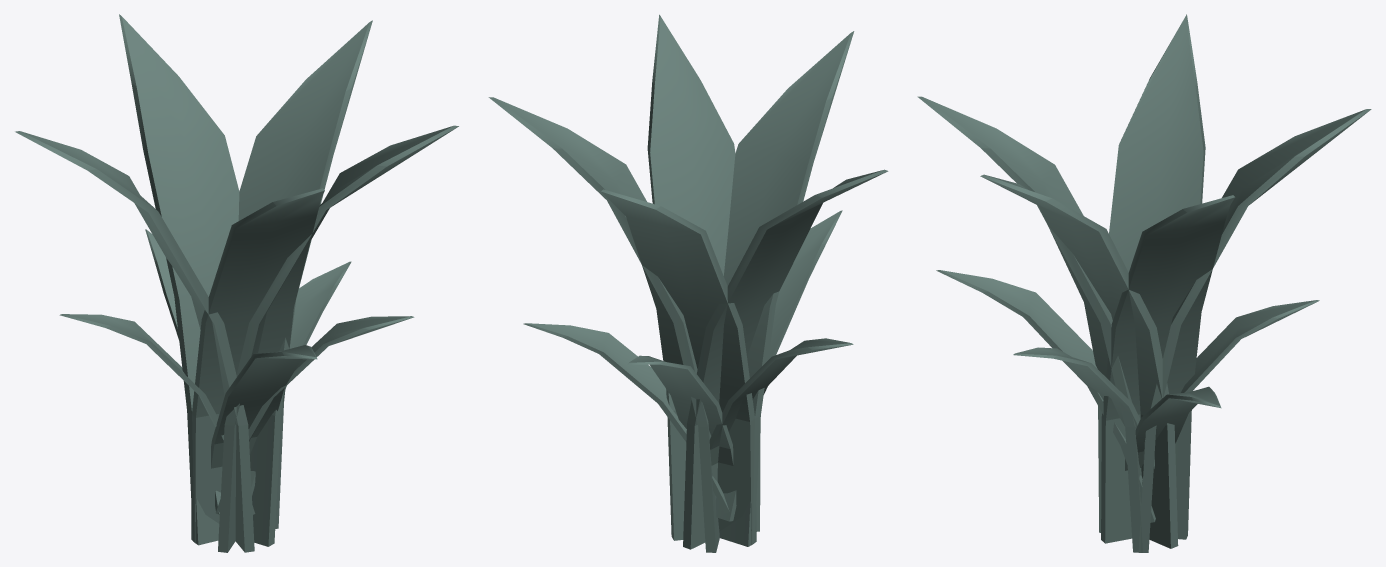
The model's file is Plant.fbx.
3 views of the same model, side by side, from view 1: azimuth 30°, elevation 25°; view 2: azimuth 150°, elevation 25°; view 3: azimuth 270°, elevation 25° (orthographic). The views are drawn at different scales.
Visible parts, largest first — view 1: polySurface351; view 2: polySurface351; view 3: polySurface351.
Part boxes in pixels (x1,y1,x2,y2): polySurface351: (15,14,458,552); polySurface351: (488,14,888,552); polySurface351: (917,14,1371,552).
Bounding box in the file's own units: 1.7 × 1.84 × 1.79.
